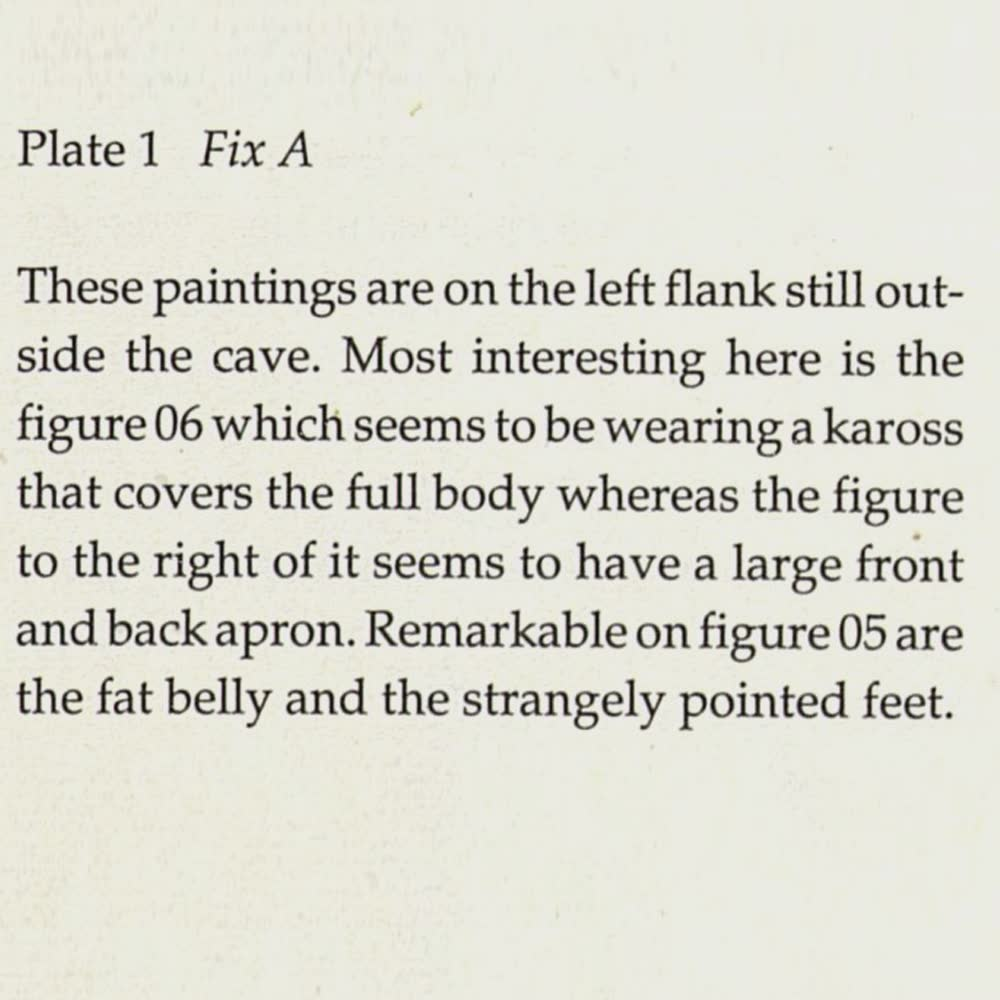text: (6, 121, 979, 745)
